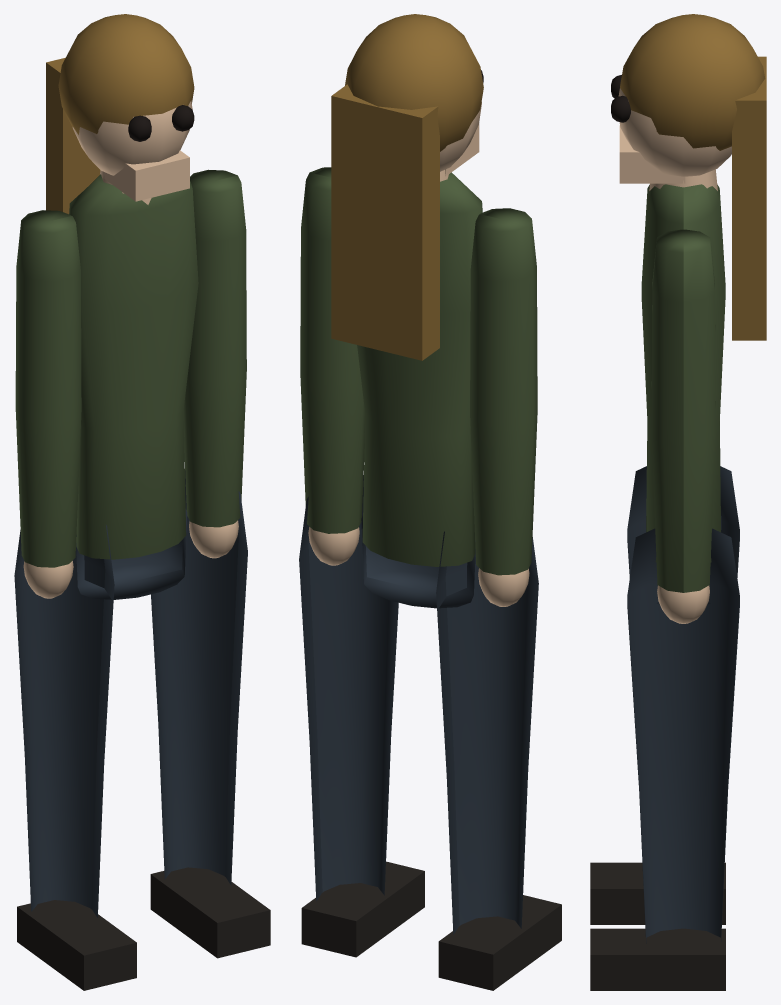
The model's file is survivor_lina.glb.
3 views of the same model, side by side, from view 1: azimuth 30°, elevation 25°; view 2: azimuth 150°, elevation 25°; view 3: azimuth 270°, elevation 25° (orthographic). The views are drawn at different scales.
Visible parts, largest first — view 1: survivor_lina; view 2: survivor_lina; view 3: survivor_lina.
Part boxes in pixels (x1,y1,x2,y2): survivor_lina: [14, 14, 270, 990]; survivor_lina: [299, 14, 561, 990]; survivor_lina: [590, 14, 766, 990].
Size of what is drawn, in the model's own units: 0.4612 by 1.8 by 0.3119.
